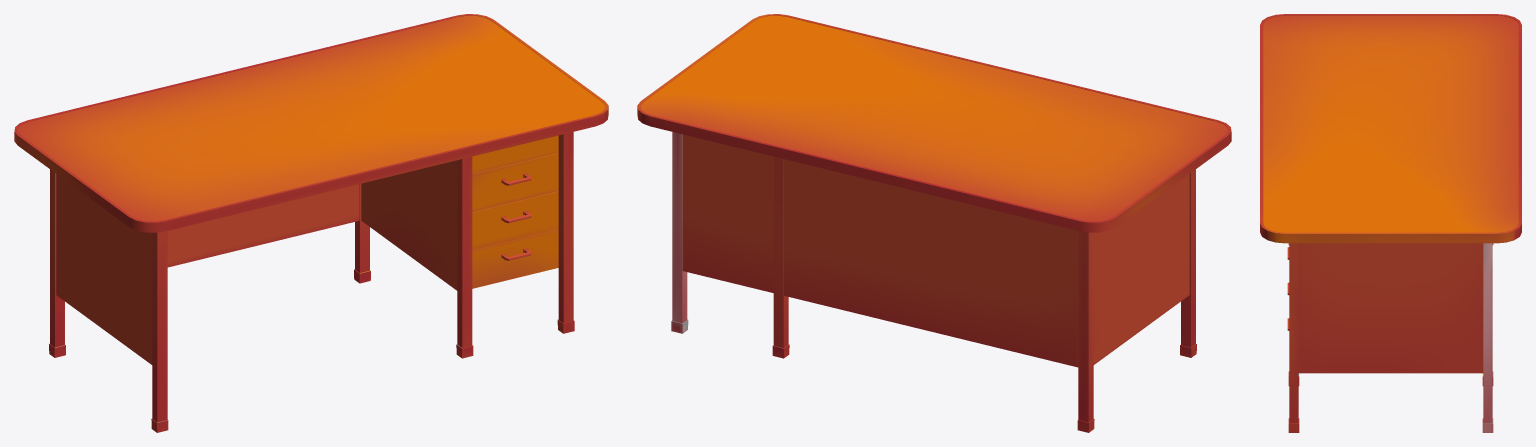
File: table.fbx
The picture shows the model from 3 angles, left to right: view 1: azimuth 30°, elevation 25°; view 2: azimuth 150°, elevation 25°; view 3: azimuth 270°, elevation 25°; orthographic projection. The views are drawn at different scales.
Visible parts, largest first — view 1: table; view 2: table; view 3: table.
Boxes of the visible parts, x1=… form: table: x1=14, y1=14, x2=608, y2=432; table: x1=637, y1=14, x2=1231, y2=432; table: x1=1260, y1=14, x2=1521, y2=432.
Bounding box in the file's own units: 859 × 387 × 432.
